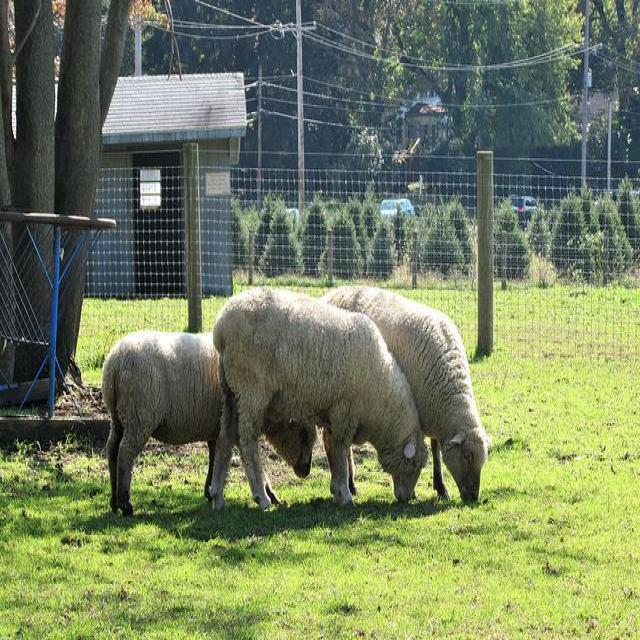Sheep: (210, 283, 429, 521), (319, 286, 487, 506), (102, 329, 223, 518)
